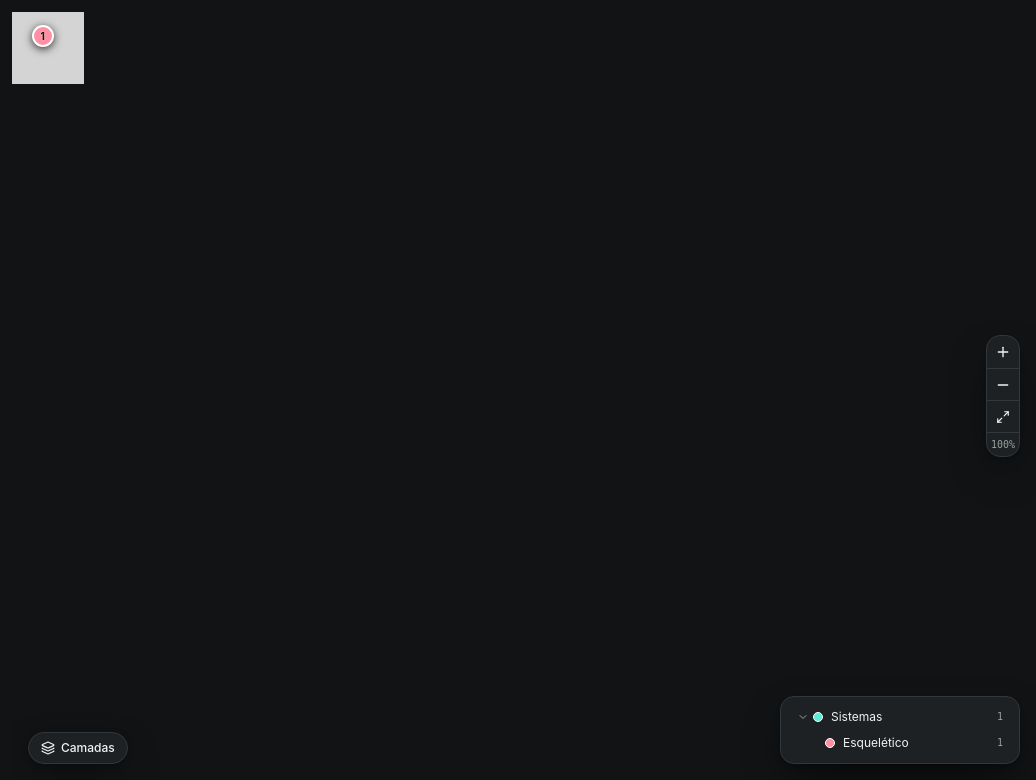
Test case: atlas-canvas › renders retractable floating legend and supports category filtering + Camadas toggle
The image size is (1036, 780).
Expected: the element with test id "floating-legend" shows "Esquelético", left=825, top=731, right=1011, bottom=755
Click the button named "Recolher Sistemas": (803, 717) left=793, top=707, right=813, bottom=727
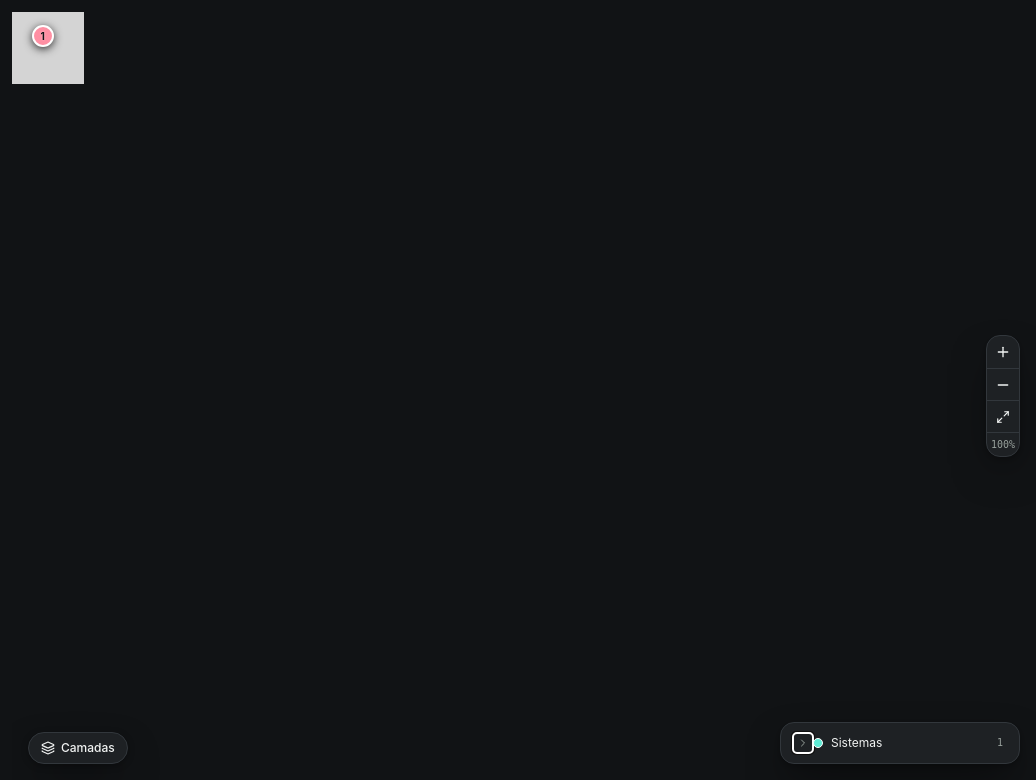
Now the element with test id "floating-legend" no longer shows "Esquelético", box left=780, top=722, right=1020, bottom=764
Click the button named "Expandir Sistemas": (803, 743) left=793, top=733, right=813, bottom=753
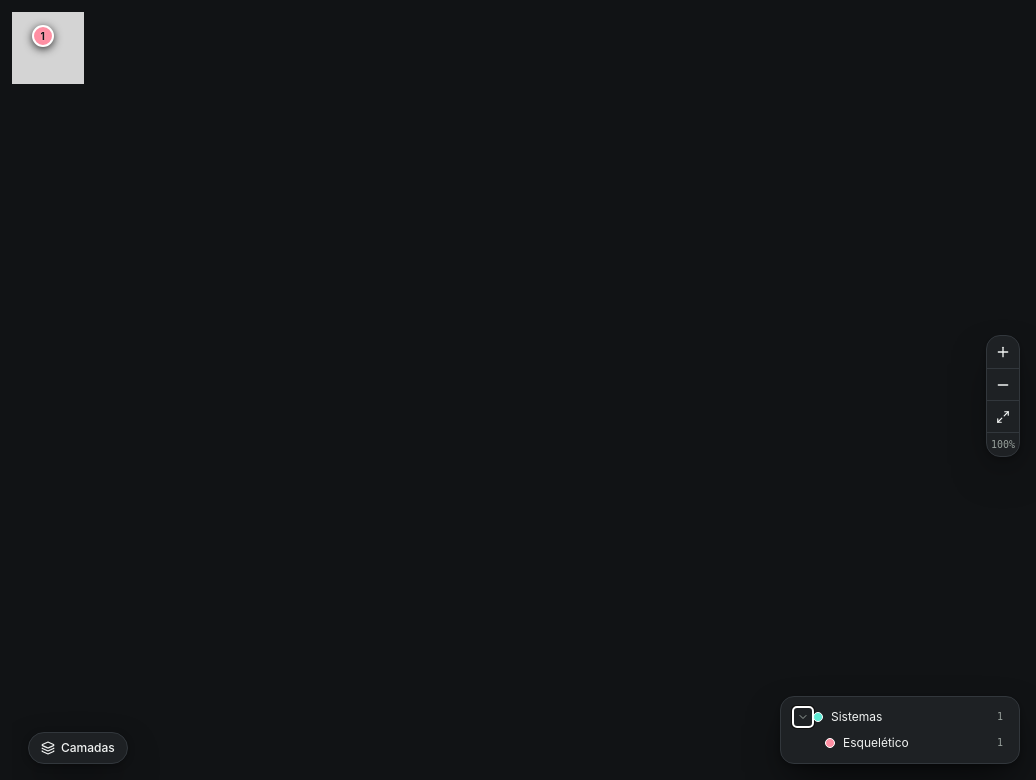
Now the element with test id "floating-legend" shows "Esquelético"
Click the button "Esquelético 1": (918, 743) left=825, top=731, right=1011, bottom=755
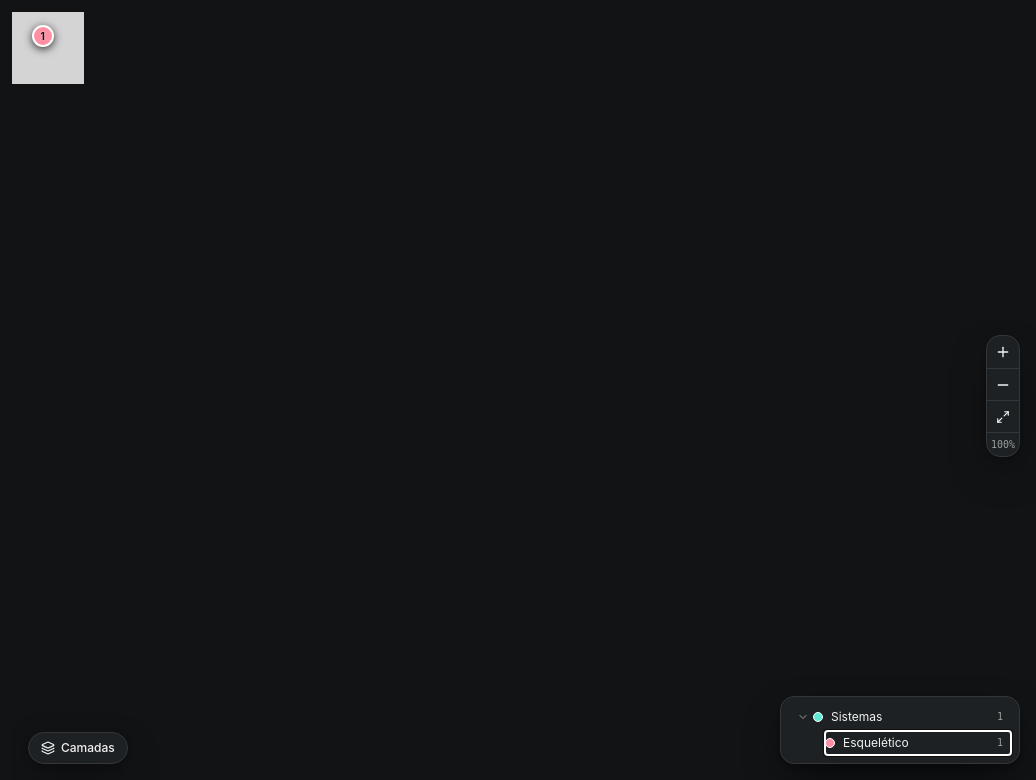
Click the button "Camadas": (78, 748) left=28, top=732, right=128, bottom=764
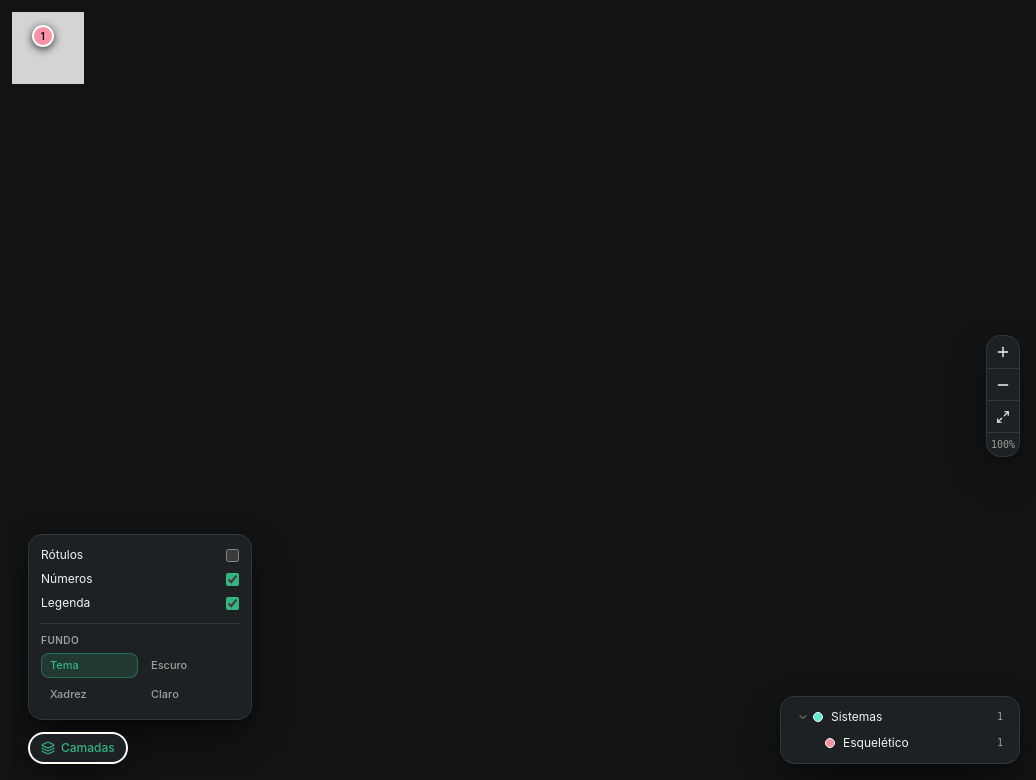
Now the checkbox labelled "Rótulos" is shown, box left=226, top=549, right=239, bottom=562
